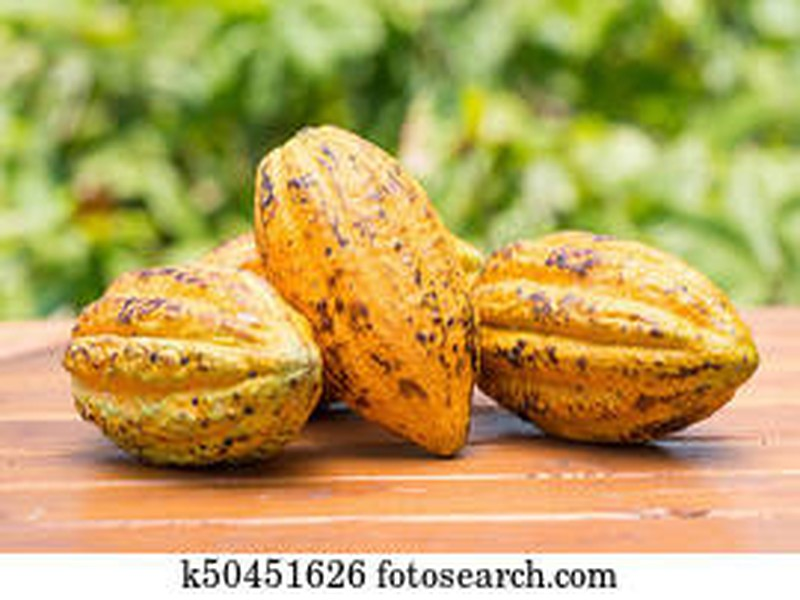Cacaopod: (248, 123, 479, 461), (477, 228, 757, 448), (67, 263, 324, 468)
